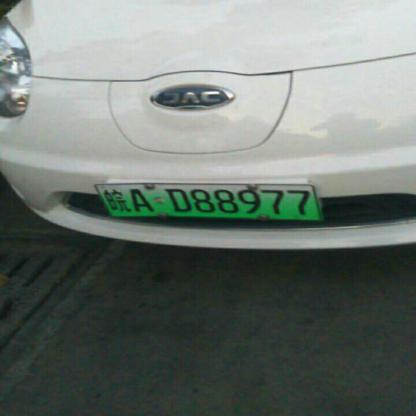lp: (92, 184, 323, 221)
